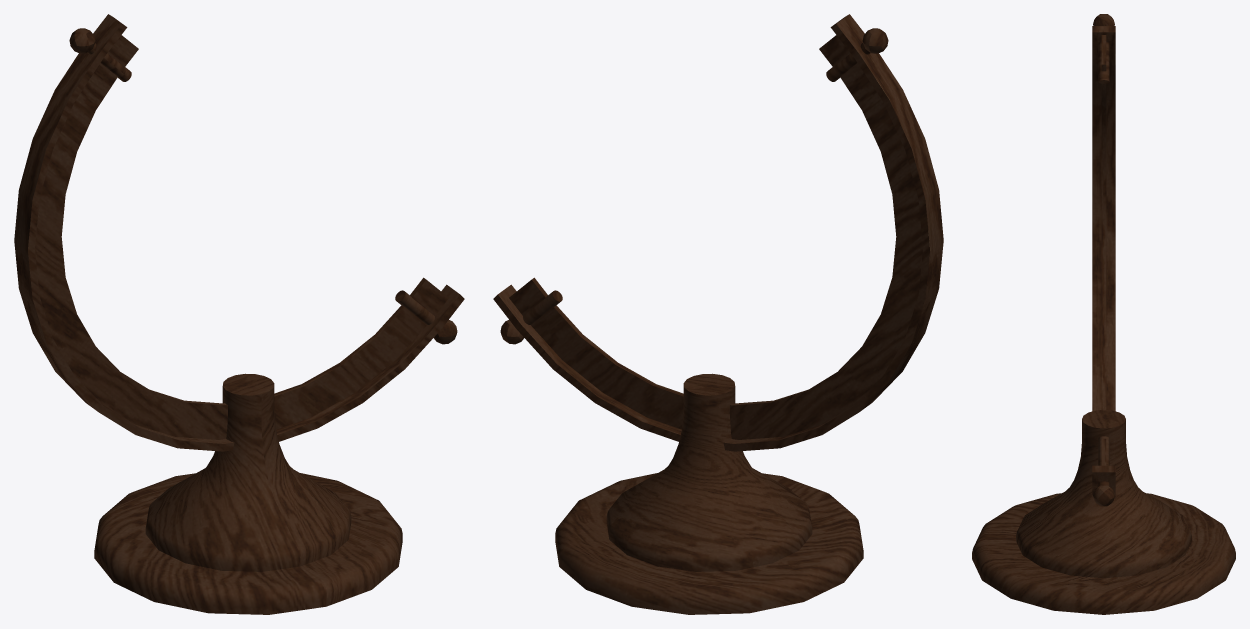
3 views of the same model, side by side, from view 1: azimuth 30°, elevation 25°; view 2: azimuth 150°, elevation 25°; view 3: azimuth 270°, elevation 25° (orthographic). The views are drawn at different scales.
Visible parts, largest first — view 1: globe_Cylinder.003; view 2: globe_Cylinder.003; view 3: globe_Cylinder.003.
Part boxes in pixels (box(x1,y1,x2,y2)): globe_Cylinder.003: box(14, 14, 464, 614); globe_Cylinder.003: box(493, 14, 943, 614); globe_Cylinder.003: box(972, 14, 1235, 614).
Size of the model in its own units: 2.42 by 2.98 by 1.49.
1 material, 1 textured.
